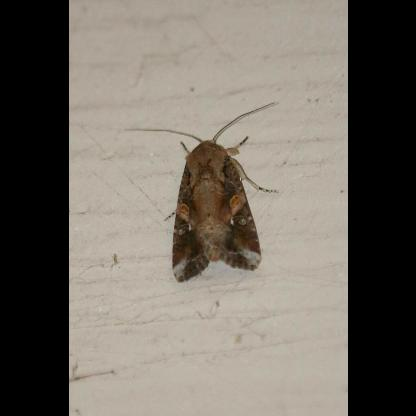Fall Armyworm Moth: (126, 100, 282, 286)
